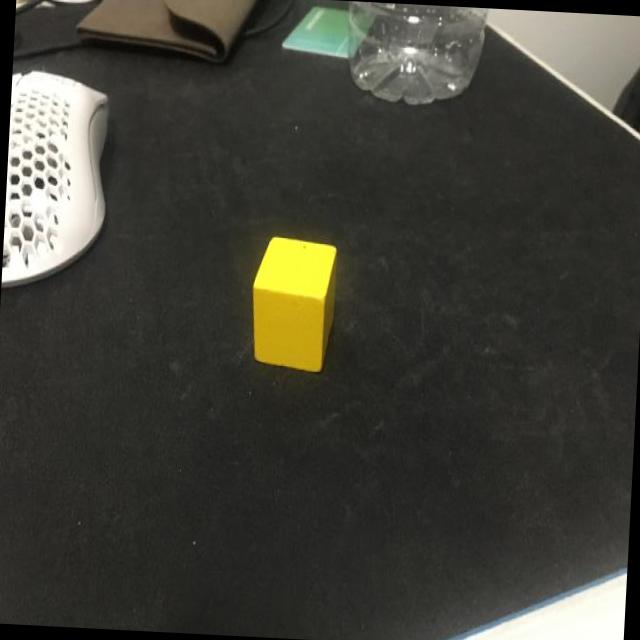yellow: (248, 236, 338, 374)
